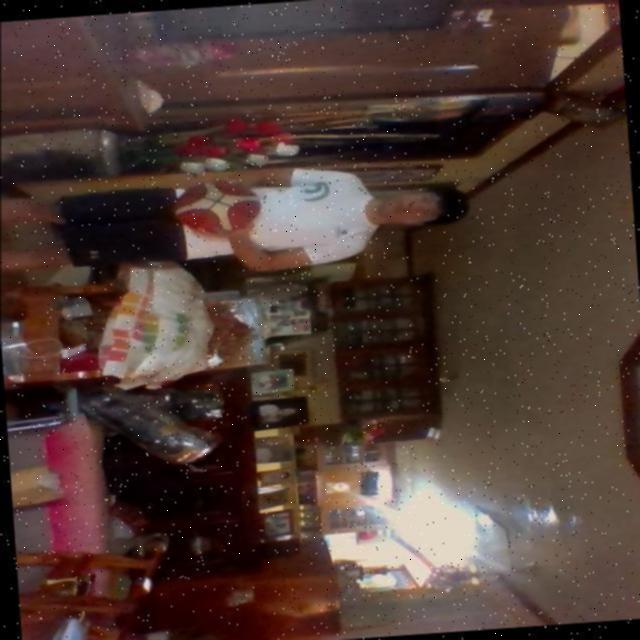ball: (170, 175, 268, 241)
